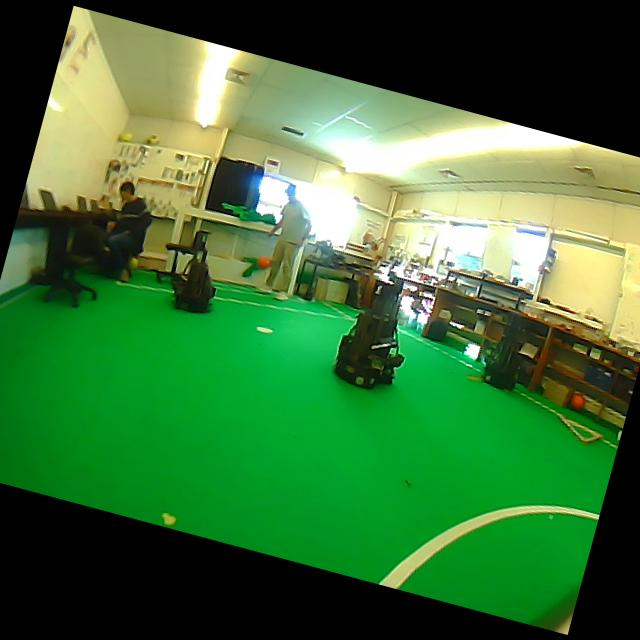ball: (569, 391, 586, 411), (127, 256, 138, 279), (145, 134, 160, 145), (257, 257, 270, 269), (118, 131, 133, 141)
robot: (333, 282, 403, 387), (172, 230, 214, 312), (483, 316, 520, 390)
